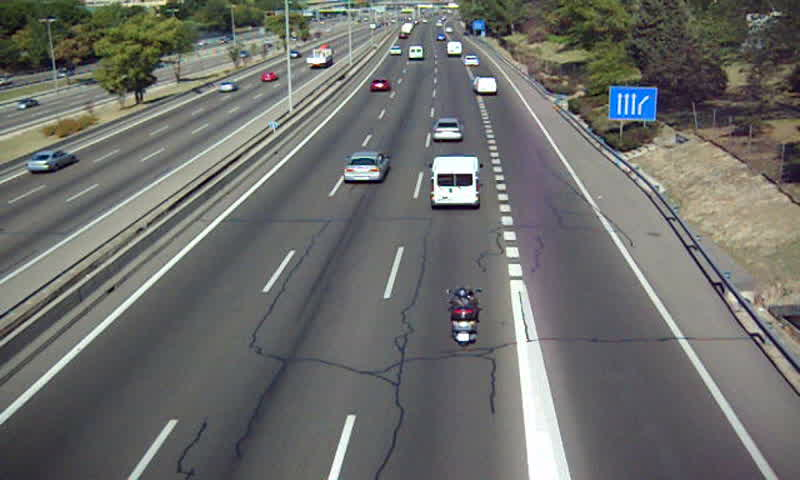car: (341, 150, 390, 182), (430, 119, 464, 144), (370, 78, 390, 92)
motorcycle: (450, 286, 481, 348)
van: (430, 156, 480, 210), (470, 75, 498, 95)
